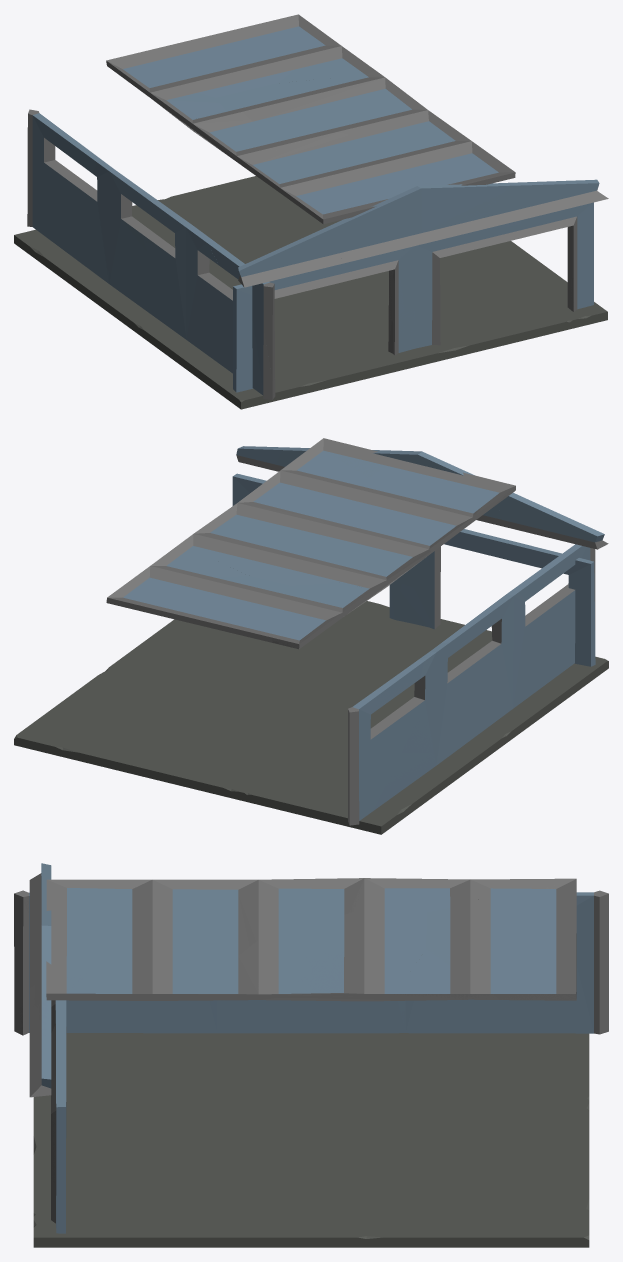
Rendered from Hangar.fbx.
3 renders of one model, top to bottom at view 1: azimuth 30°, elevation 25°; view 2: azimuth 150°, elevation 25°; view 3: azimuth 270°, elevation 25°, orthographic. The views are drawn at different scales.
Parts seen in each view (by area): view 1: Foundation, Roof, Panel3, Panel1, Panel2, Panel2_cell.002, Roof_cell.005, Roof_cell.003, Panel3_cell, Panel3_cell.005, Panel3_cell.004, Panel1_cell (+14 smaller); view 2: Foundation, Roof, Panel3, Roof_cell.005, Panel3_cell, Panel1_cell.004, Panel3_cell.005, Panel1, Roof_cell.003, Panel2_cell.001, Panel3_cell.004, Panel2 (+8 smaller); view 3: Foundation, Roof, Panel3, Roof_cell.005, Roof_cell.003, Panel3_cell.002, Panel3_cell, Panel2, Panel1, Panel3_cell.004, Roof_cell.001, Roof_cell.004 (+6 smaller).
Boxes of the visible parts, bbox=[...] form: Foundation: bbox=[14, 176, 607, 409]; Roof: bbox=[106, 16, 515, 222]; Panel3: bbox=[27, 113, 274, 399]; Panel1: bbox=[233, 202, 593, 392]; Panel2: bbox=[238, 179, 608, 287]; Panel2_cell.002: bbox=[348, 186, 509, 244]; Roof_cell.005: bbox=[130, 14, 331, 97]; Roof_cell.003: bbox=[224, 70, 426, 136]; Panel3_cell: bbox=[174, 256, 275, 399]; Panel3_cell.005: bbox=[74, 162, 146, 273]; Panel3_cell.004: bbox=[27, 109, 97, 235]; Panel1_cell: bbox=[520, 202, 593, 280]; Foundation: bbox=[14, 601, 608, 834]; Roof: bbox=[108, 438, 515, 649]; Panel3: bbox=[348, 544, 595, 825]; Roof_cell.005: bbox=[106, 572, 310, 642]; Panel3_cell: bbox=[487, 584, 575, 708]; Panel1_cell.004: bbox=[440, 529, 595, 666]; Panel3_cell.005: bbox=[401, 642, 472, 753]; Panel1: bbox=[233, 473, 585, 663]; Roof_cell.003: bbox=[183, 503, 341, 585]; Panel2_cell.001: bbox=[499, 492, 608, 549]; Panel3_cell.004: bbox=[348, 661, 424, 823]; Panel2: bbox=[236, 446, 607, 548]; Foundation: bbox=[33, 1033, 589, 1247]; Roof: bbox=[46, 878, 576, 1000]; Panel3: bbox=[14, 890, 608, 1035]; Roof_cell.005: bbox=[426, 893, 576, 1000]; Roof_cell.003: bbox=[238, 909, 426, 1001]; Panel3_cell.002: bbox=[342, 999, 562, 1033]; Panel3_cell: bbox=[18, 963, 308, 1035]; Panel2: bbox=[29, 863, 51, 1097]; Panel1: bbox=[50, 1000, 66, 1233]; Panel3_cell.004: bbox=[514, 890, 608, 1033]; Roof_cell.001: bbox=[394, 950, 491, 999]; Roof_cell.004: bbox=[385, 879, 485, 911].
Size of the model in its own units: 2108 by 956 by 2422.
